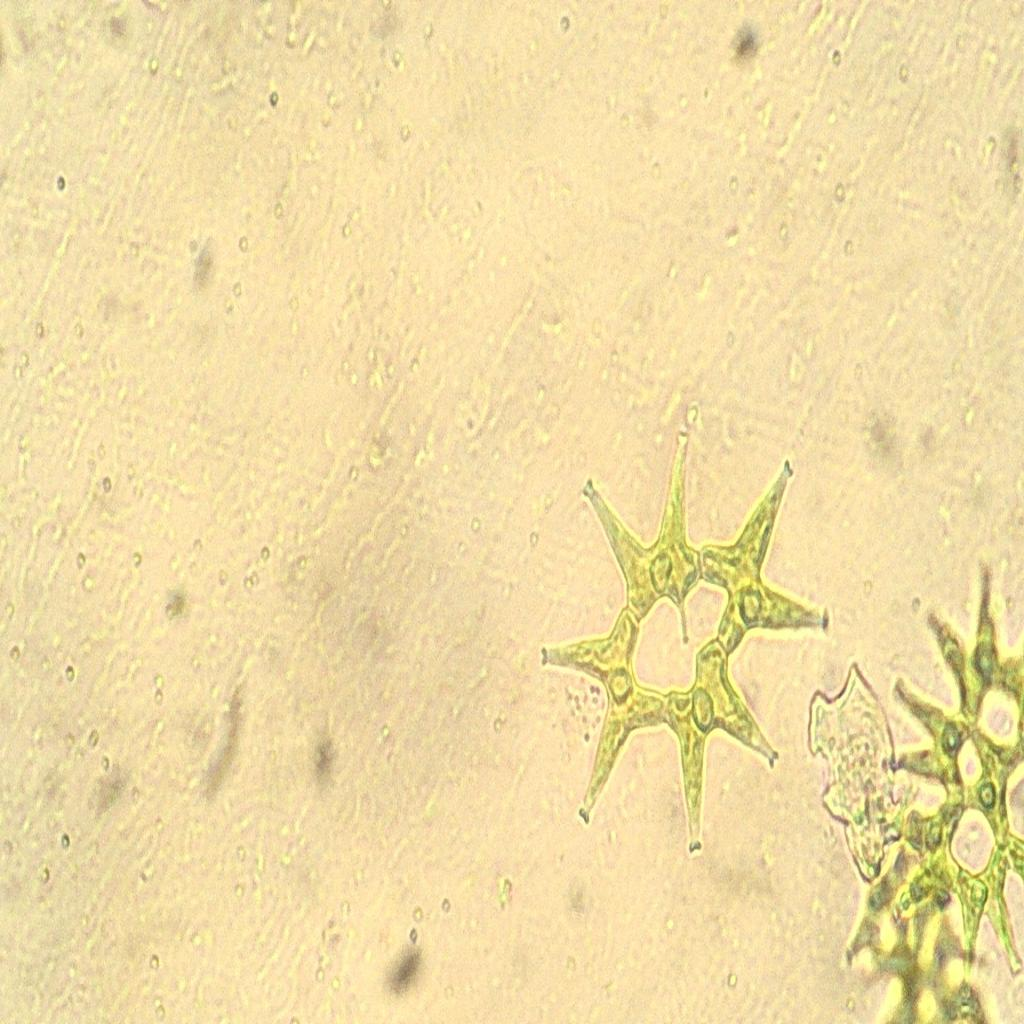Pediastrum_75FO: (522, 386, 842, 874)
